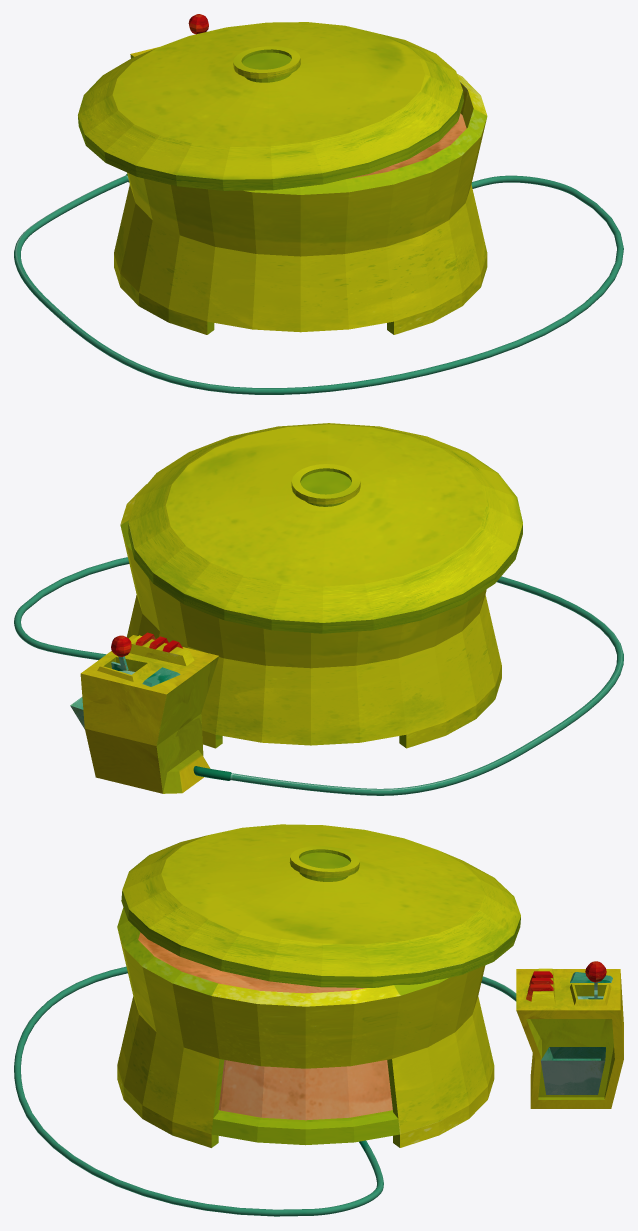
Rendered from Mezcladora.glb.
3 views of the same model, one above another, from view 1: azimuth 30°, elevation 25°; view 2: azimuth 150°, elevation 25°; view 3: azimuth 270°, elevation 25° (orthographic). The views are drawn at different scales.
Visible parts, largest first — view 1: Mezcladora; view 2: Mezcladora; view 3: Mezcladora.
Boxes of the visible parts, <box> form: Mezcladora: <box>14,14,623,394</box>; Mezcladora: <box>14,423,623,795</box>; Mezcladora: <box>14,824,623,1216</box>.
Size of the model in its own units: 6.99 by 2.68 by 7.02.
6 materials, 6 textured.
